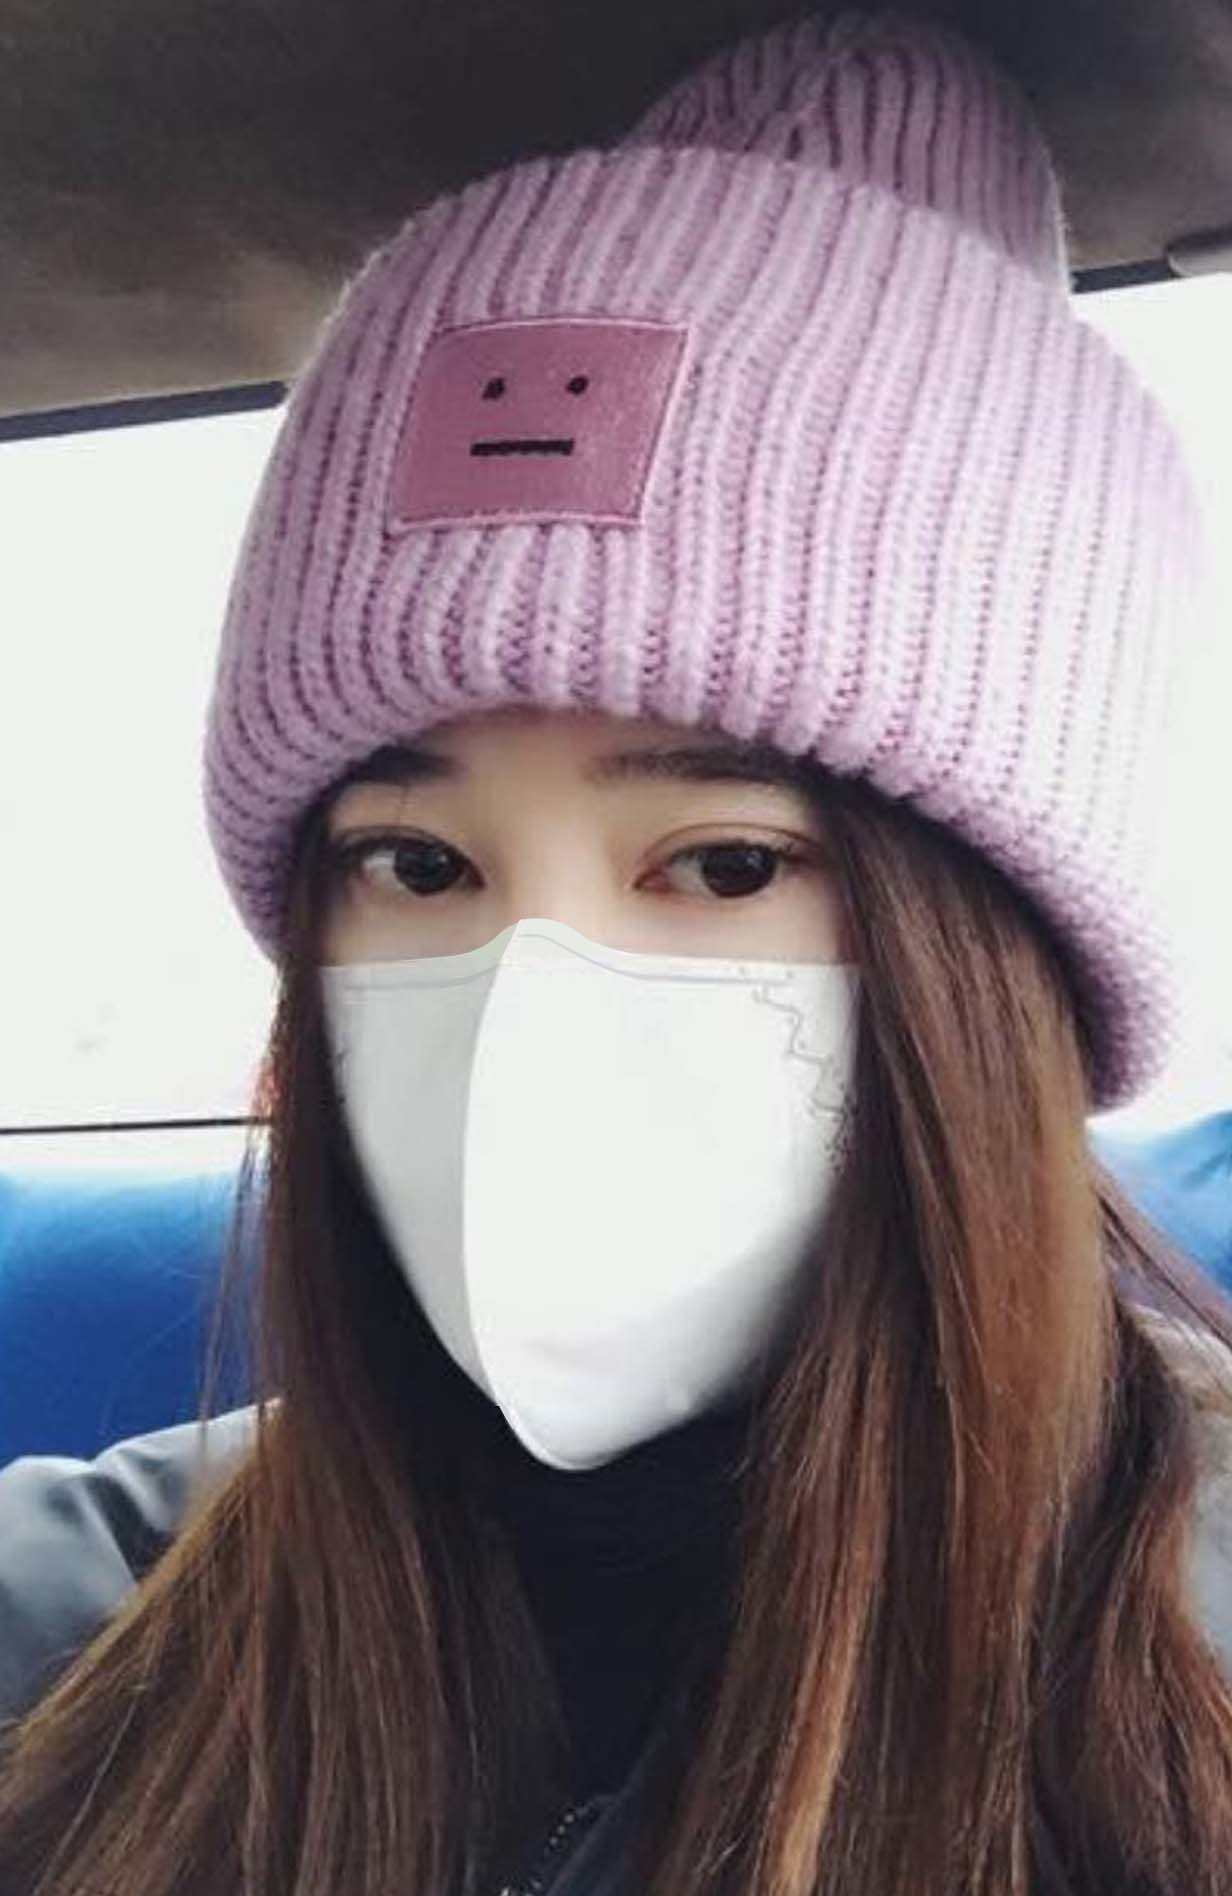face_mask: (298, 627, 863, 1470)
